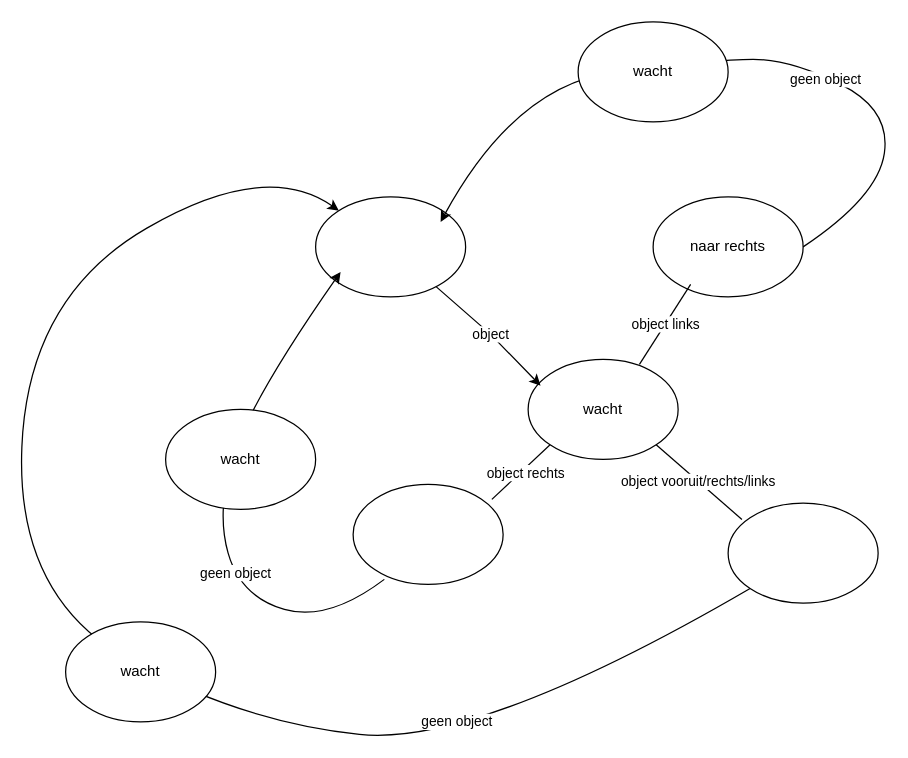
Some shapes in this 908 by 758 pixel diagram are drawn without their labels. Each missing label, with the box of its shape:
naar links: (352, 483, 503, 584)
rij vooruit: (314, 196, 466, 297)
U-turn: (727, 502, 878, 603)
